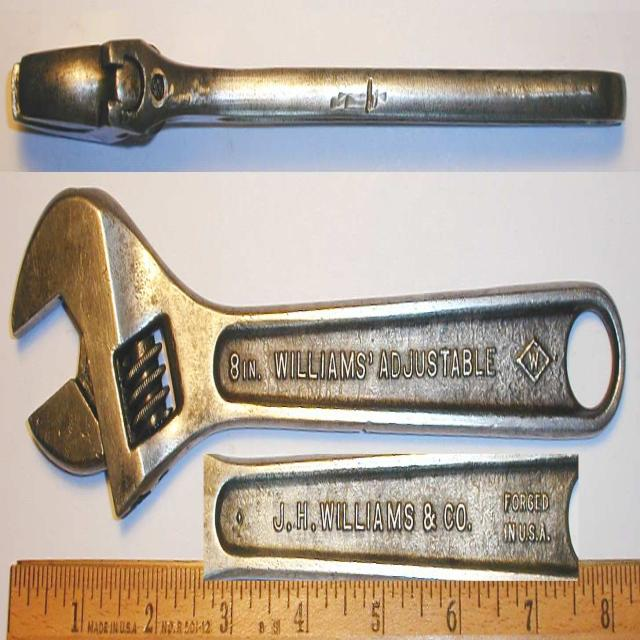wrench: (3, 184, 640, 524)
